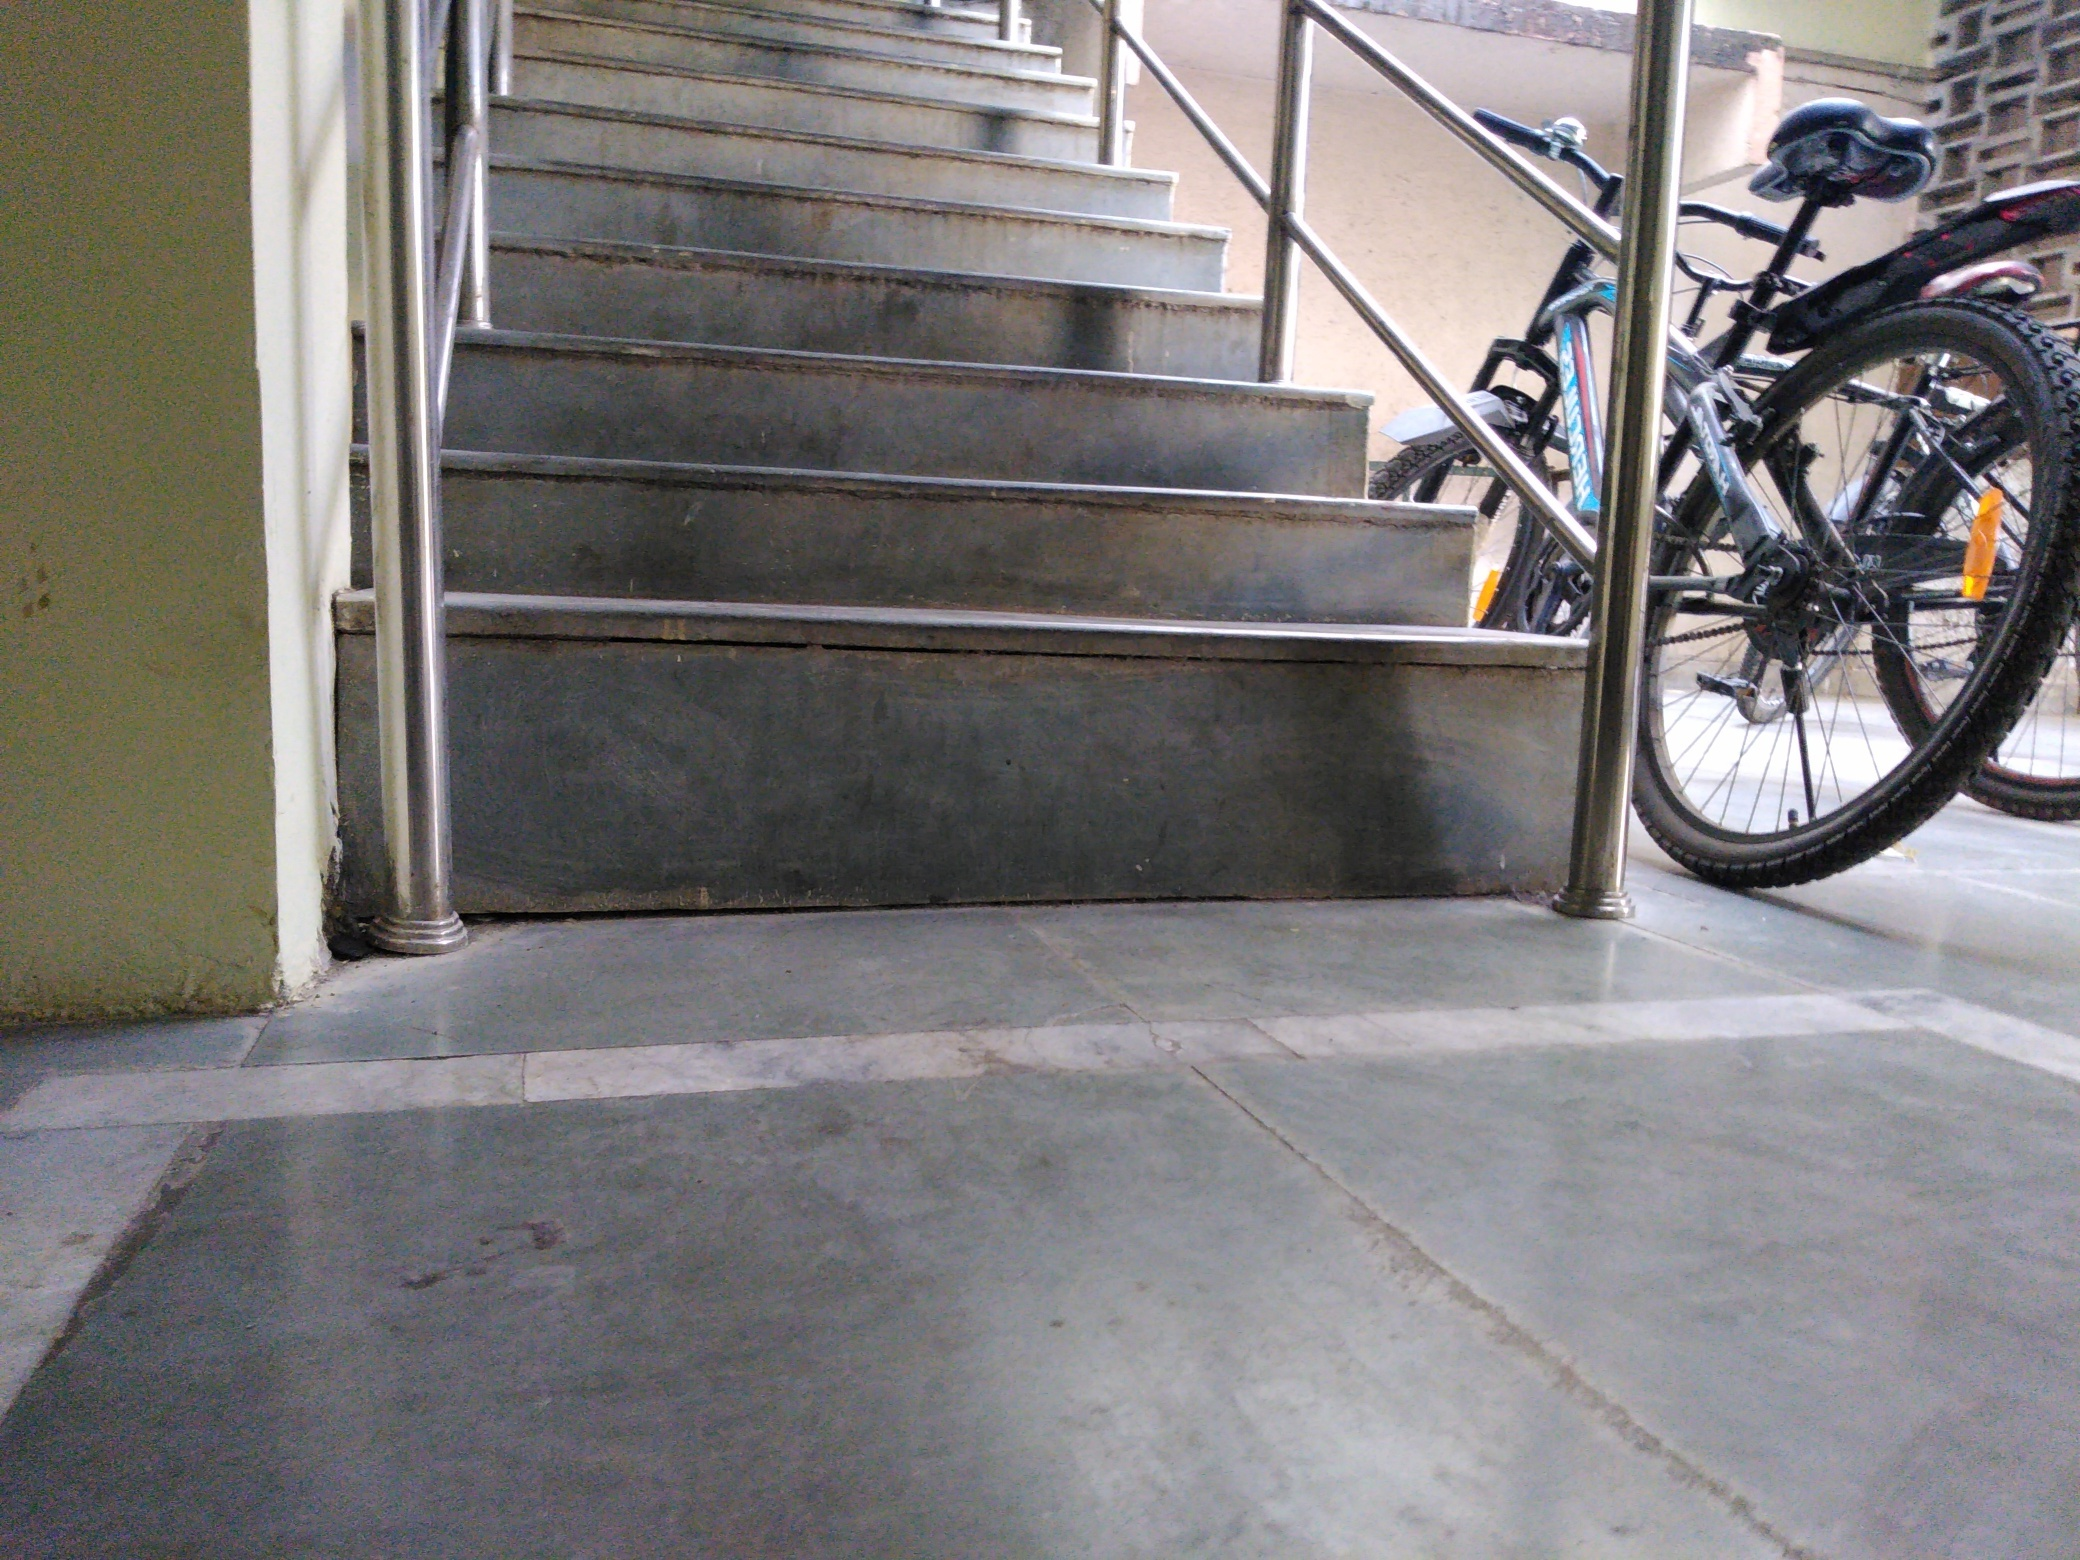stairs_up: (465, 16, 1441, 880)
